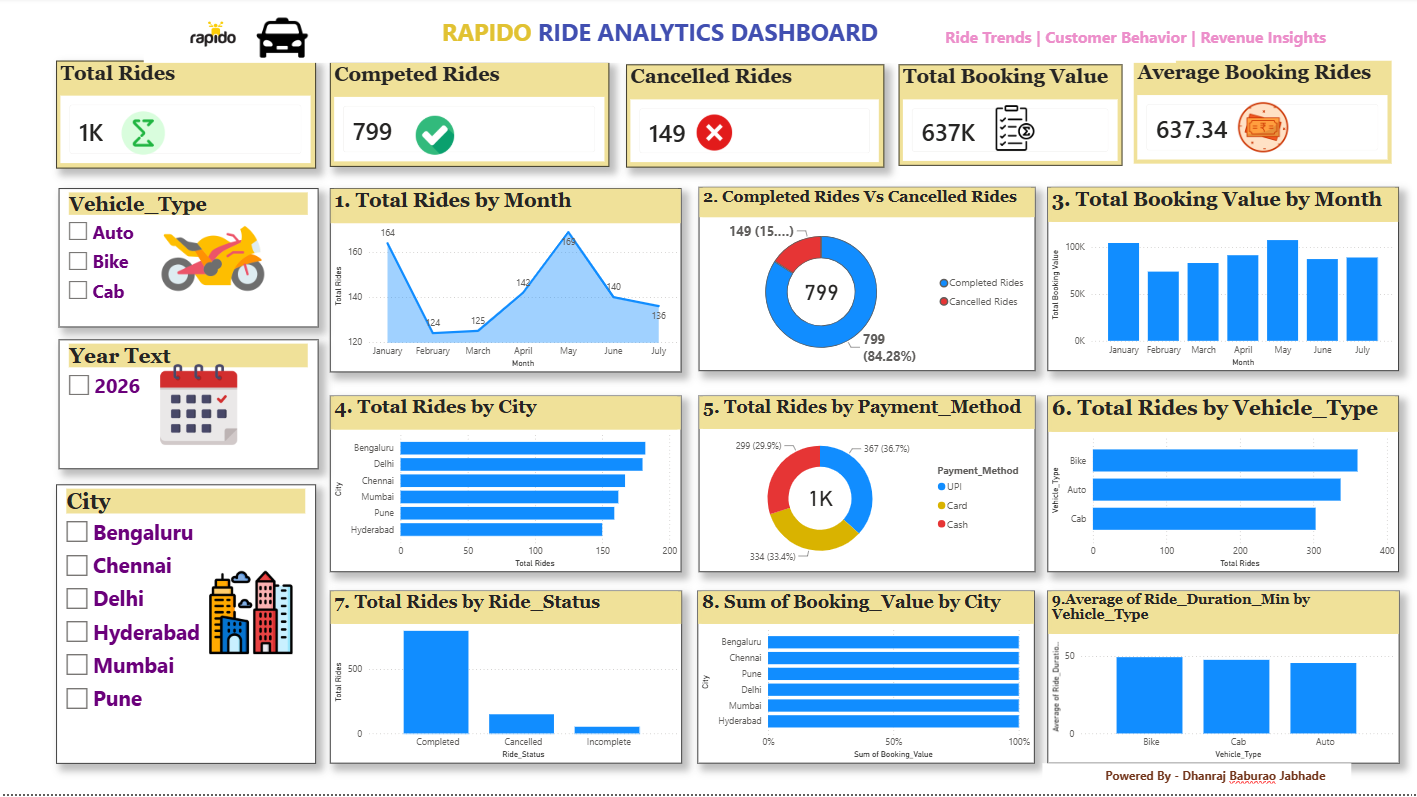

The dashboard page shown, as its layout file describes it:
{"tool":"powerbi","page":{"name":"Rapido Report","canvas":[1920,1080],"ordinal":0},"visuals":[{"type":"cardVisual","title":"Competed Rides","fields":{"Data":["Date_table.Completed Rides"]},"box":[445.8,88.8,377.2,141.2],"z":0},{"type":"cardVisual","title":"Cancelled Rides","fields":{"Data":["Date_table.Cancelled Rides"]},"box":[847.2,90.8,349,139.2],"z":1000},{"type":"cardVisual","title":"Total Booking Value","fields":{"Data":["Date_table.Total Booking Value"]},"box":[1216.4,90.8,302.6,137.2],"z":2000},{"type":"cardVisual","title":"Average Booking Rides","fields":{"Data":["Date_table.Average Booking Value"]},"box":[1533.1,86.7,349,139.2],"z":3000},{"type":"lineChart","title":"1. Total Rides by Month","fields":{"Category":["Date_table.Month"],"Y":["Date_table.Total Rides"]},"box":[445.8,258.2,475.5,249.1],"z":4000},{"type":"donutChart","title":"2. Completed Rides Vs Cancelled Rides","fields":{"Y":["Date_table.Completed Rides","Date_table.Cancelled Rides"]},"box":[944.8,257.3,454.9,249.1],"z":5000},{"type":"cardVisual","title":"Total Rides","fields":{"Data":["Date_table.Total Rides"]},"box":[76.7,86.7,351,145.2],"z":6000},{"type":"clusteredColumnChart","title":"3. Total Booking Value by Month","fields":{"Category":["Date_table.Month"],"Y":["Date_table.Total Booking Value"]},"box":[1416.1,257.3,475.5,249.1],"z":7000},{"type":"clusteredBarChart","title":"4. Total Rides by City","fields":{"Category":["Rapido_Rides.City"],"Y":["Date_table.Total Rides"]},"box":[446.7,539.3,475.5,238.8],"z":8000},{"type":"donutChart","title":"5. Total Rides by Payment_Method","fields":{"Category":["Rapido_Rides.Payment_Method"],"Y":["Date_table.Total Rides"]},"box":[944.8,539.3,454.9,238.8],"z":9000},{"type":"clusteredBarChart","title":"6. Total Rides by Vehicle_Type","fields":{"Category":["Rapido_Rides.Vehicle_Type"],"Y":["Date_table.Total Rides"]},"box":[1416.1,539.3,475.5,238.8],"z":10000},{"type":"slicer","fields":{"Values":["Rapido_Rides.Vehicle_Type"]},"box":[78.7,258.2,351,187.6],"z":11000},{"type":"slicer","fields":{"Values":["Date_table.Year Text"]},"box":[78.7,464,351,175.5],"z":12000},{"type":"clusteredColumnChart","title":"7. Total Rides by Ride_Status","fields":{"Category":["Rapido_Rides.Ride_Status"],"Y":["Date_table.Total Rides"]},"box":[445.8,802.9,476.1,234],"z":13000},{"type":"hundredPercentStackedBarChart","title":"8. Sum of Booking_Value by City","fields":{"Category":["Rapido_Rides.City"],"Y":["Sum(Rapido_Rides.Booking_Value)"]},"box":[944.1,802.9,455.9,234],"z":14000},{"type":"clusteredColumnChart","title":"9.Average of Ride_Duration_Min by Vehicle_Type","fields":{"Category":["Rapido_Rides.Vehicle_Type"],"Y":["Avg(Rapido_Rides.Ride_Duration_Min)"]},"box":[1416.1,802.9,476.1,234],"z":15000},{"type":"slicer","fields":{"Values":["Rapido_Rides.City"]},"box":[76.7,659.6,351,377.2],"z":16000},{"type":"textbox","box":[193.7,20.2,1395.9,68.6],"z":17000},{"type":"image","box":[0,12.1,576.9,74.6],"z":18000},{"type":"image","box":[149.3,284.4,278.4,139.2],"z":19000},{"type":"image","box":[294.5,18.2,175.5,72.6],"z":20000},{"type":"image","box":[490.2,161.4,195.7,52.4],"z":21000},{"type":"image","box":[847.2,159.4,238,48.4],"z":22000},{"type":"image","box":[1285,141.2,175.5,70.6],"z":23000},{"type":"image","box":[1589.6,137.2,238,78.7],"z":24000},{"type":"image","box":[193.7,494.2,149.3,115],"z":25000},{"type":"image","box":[234,776.6,211.8,113],"z":26000},{"type":"image","box":[92.8,149.3,201.7,70.6],"z":27000},{"type":"textbox","box":[1272.9,34.3,554.7,40.3],"z":28000},{"type":"textbox","box":[1410,1036.9,417.6,42.4],"z":28001}]}

Visuals, with their boxes in screenshot pixels (x1, y1, x2, y2), scaled from the page's 1920x1080 canvas onto the 1417x797 screenshot:
"Competed Rides" cardVisual: x1=329 y1=66 x2=607 y2=170
"Cancelled Rides" cardVisual: x1=625 y1=67 x2=883 y2=170
"Total Booking Value" cardVisual: x1=898 y1=67 x2=1121 y2=168
"Average Booking Rides" cardVisual: x1=1131 y1=64 x2=1389 y2=167
"1. Total Rides by Month" lineChart: x1=329 y1=191 x2=680 y2=374
"2. Completed Rides Vs Cancelled Rides" donutChart: x1=697 y1=190 x2=1033 y2=374
"Total Rides" cardVisual: x1=57 y1=64 x2=316 y2=171
"3. Total Booking Value by Month" clusteredColumnChart: x1=1045 y1=190 x2=1396 y2=374
"4. Total Rides by City" clusteredBarChart: x1=330 y1=398 x2=681 y2=574
"5. Total Rides by Payment_Method" donutChart: x1=697 y1=398 x2=1033 y2=574
"6. Total Rides by Vehicle_Type" clusteredBarChart: x1=1045 y1=398 x2=1396 y2=574
slicer - Rapido_Rides.Vehicle_Type: x1=58 y1=191 x2=317 y2=329
slicer - Date_table.Year Text: x1=58 y1=342 x2=317 y2=472
"7. Total Rides by Ride_Status" clusteredColumnChart: x1=329 y1=593 x2=680 y2=765
"8. Sum of Booking_Value by City" hundredPercentStackedBarChart: x1=697 y1=593 x2=1033 y2=765
"9.Average of Ride_Duration_Min by Vehicle_Type" clusteredColumnChart: x1=1045 y1=593 x2=1396 y2=765
slicer - Rapido_Rides.City: x1=57 y1=487 x2=316 y2=765
textbox: x1=143 y1=15 x2=1173 y2=66
image: x1=0 y1=9 x2=426 y2=64
image: x1=110 y1=210 x2=316 y2=313
image: x1=217 y1=13 x2=347 y2=67
image: x1=362 y1=119 x2=506 y2=158
image: x1=625 y1=118 x2=801 y2=153
image: x1=948 y1=104 x2=1078 y2=156
image: x1=1173 y1=101 x2=1349 y2=159
image: x1=143 y1=365 x2=253 y2=450
image: x1=173 y1=573 x2=329 y2=656
image: x1=68 y1=110 x2=217 y2=162
textbox: x1=939 y1=25 x2=1349 y2=55
textbox: x1=1041 y1=765 x2=1349 y2=796
